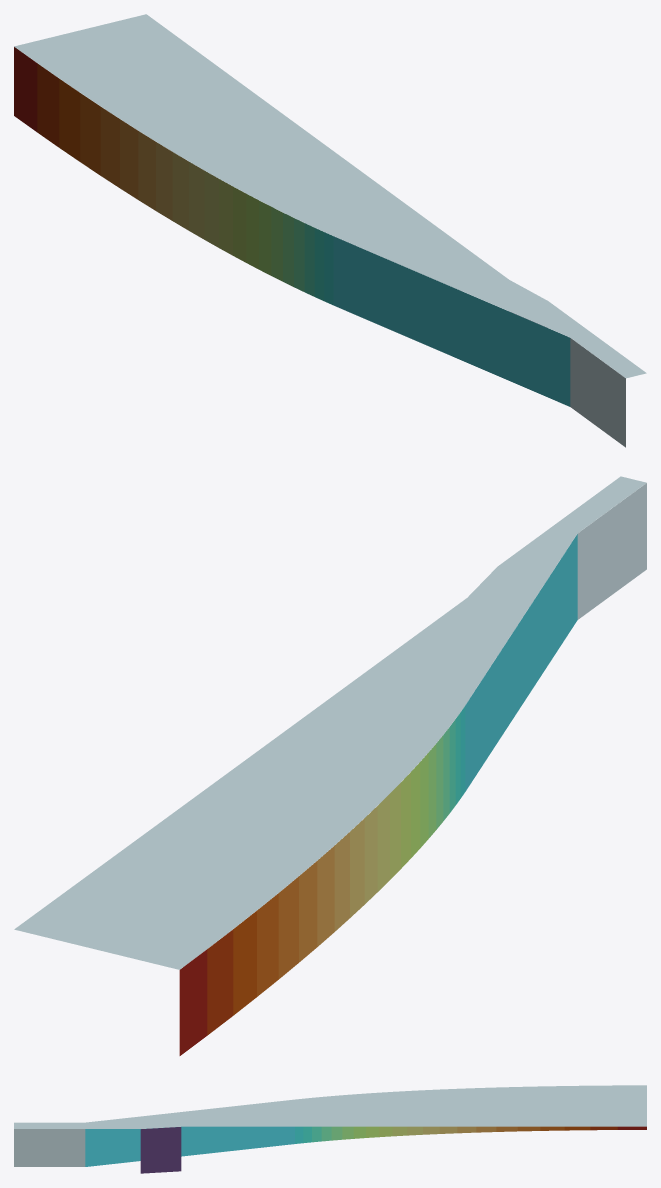
File: scramjet_n22_m2.glb
3 renders of one model, top to bottom at view 1: azimuth 30°, elevation 25°; view 2: azimuth 150°, elevation 25°; view 3: azimuth 270°, elevation 25°, orthographic. The views are drawn at different scales.
Parts seen in each view (by area): view 1: mesh0; view 2: mesh0; view 3: mesh0.
Part boxes in pixels (box(x1,y1,x2,y2)): mesh0: box(14, 14, 646, 447); mesh0: box(14, 476, 646, 1055); mesh0: box(14, 1085, 646, 1173).
Size of the model in its own units: 1.06 by 0.5006 by 6.45.
